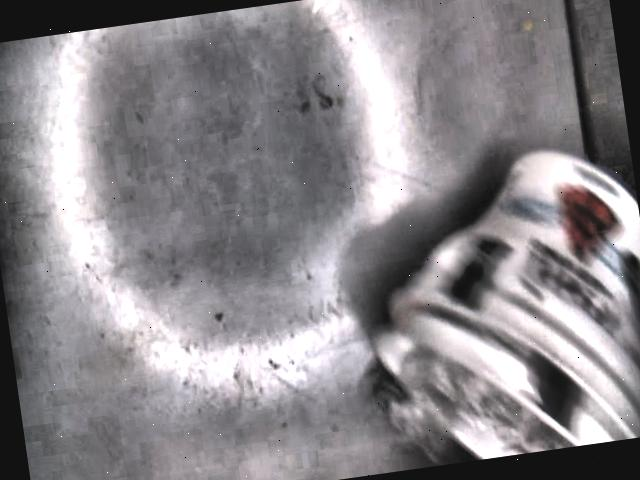Plastic: (373, 152, 640, 461)
